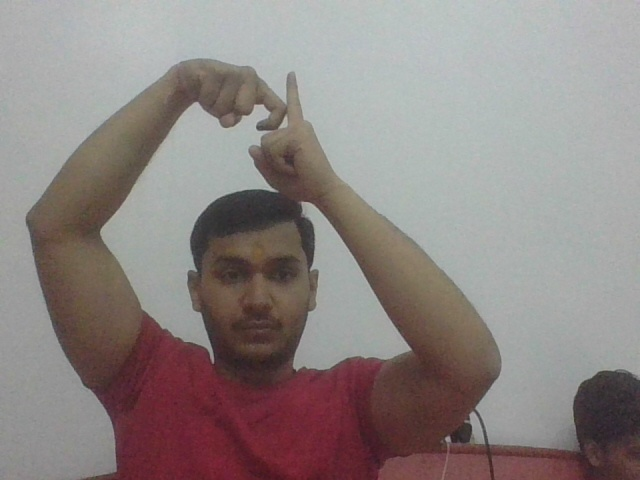K: (239, 57, 317, 147)
